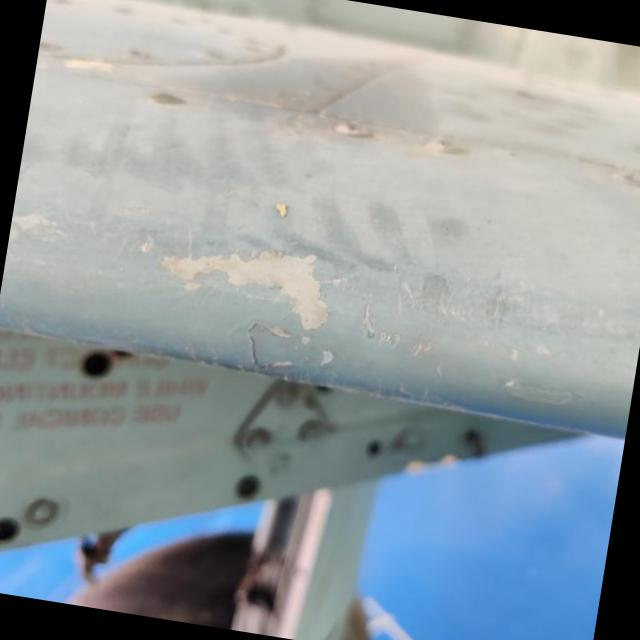Paint-off: (160, 242, 328, 333)
